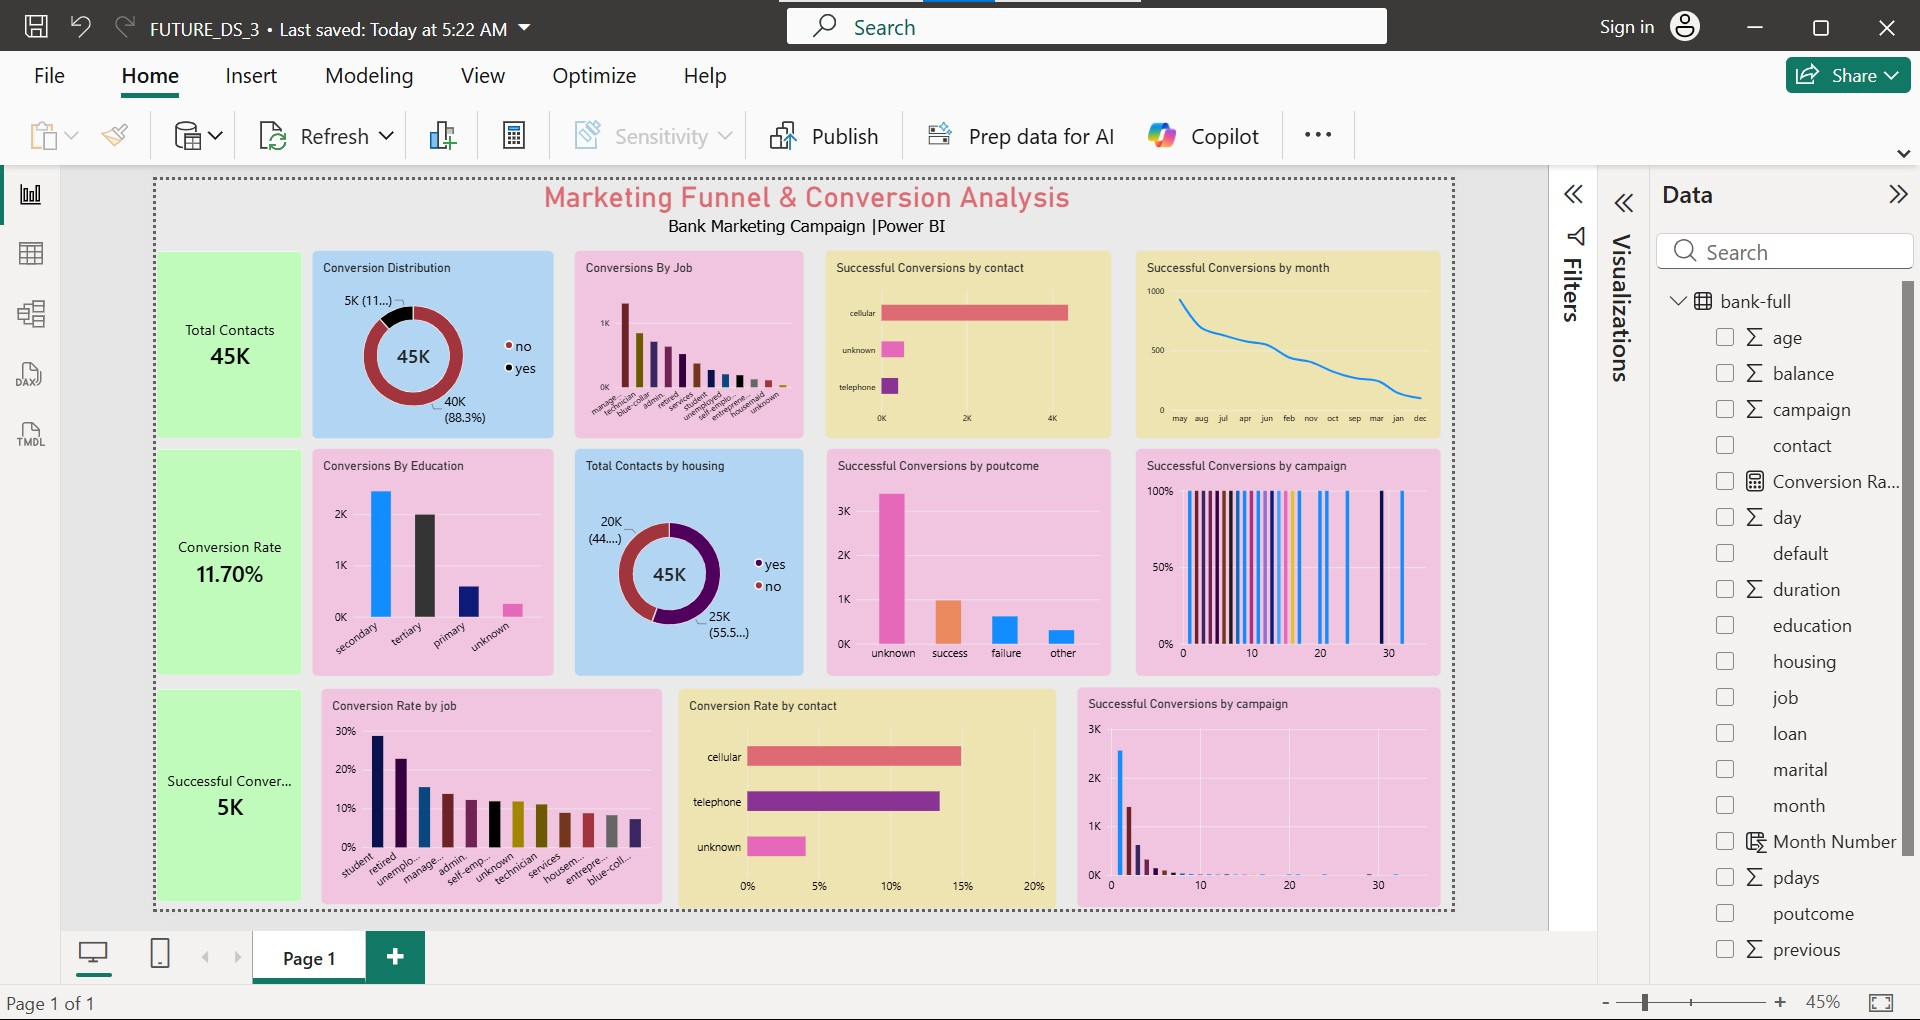

What the dashboard file says about the page in this screenshot:
{"tool":"powerbi","page":{"name":"Page 1","canvas":[1920,1080],"ordinal":0},"visuals":[{"type":"cardVisual","fields":{"Data":["bank-full.Total Contacts"]},"box":[0,105,217.1,279.2],"z":0},{"type":"cardVisual","fields":{"Data":["bank-full.Conversion Rate"]},"box":[0,398.4,217.1,336.4],"z":1000},{"type":"cardVisual","fields":{"Data":["bank-full.Successful Conversions"]},"box":[0,753.9,217.1,317.3],"z":2000},{"type":"donutChart","title":"Conversion Distribution","fields":{"Category":["bank-full.y"],"Y":["bank-full.Total Contacts"]},"box":[232.1,105.5,358.7,279],"z":3000},{"type":"clusteredColumnChart","title":" Conversions By Job","fields":{"Category":["bank-full.job"],"Y":["bank-full.Successful Conversions"]},"box":[618.9,105.5,339.9,279],"z":4000},{"type":"clusteredBarChart","fields":{"Category":["bank-full.contact"],"Y":["bank-full.Successful Conversions"]},"box":[991.7,105.5,424.4,279],"z":5000},{"type":"lineChart","fields":{"Category":["bank-full.month"],"Y":["bank-full.Successful Conversions"]},"box":[1451.2,105.5,452.5,279],"z":6000},{"type":"clusteredColumnChart","title":" Conversions By Education","fields":{"Category":["bank-full.education"],"Y":["bank-full.Successful Conversions"]},"box":[232.1,398.6,358.7,337.6],"z":7000},{"type":"donutChart","fields":{"Category":["bank-full.housing"],"Y":["bank-full.Total Contacts"]},"box":[618.9,398.6,339.9,337.6],"z":8000},{"type":"clusteredColumnChart","fields":{"Category":["bank-full.poutcome"],"Y":["bank-full.Successful Conversions"]},"box":[994.1,398.6,422,337.6],"z":9000},{"type":"hundredPercentStackedColumnChart","fields":{"Category":["bank-full.campaign"],"Y":["bank-full.Successful Conversions"]},"box":[1451.2,398.6,452.5,337.6],"z":10000},{"type":"clusteredColumnChart","fields":{"Category":["bank-full.job"],"Y":["bank-full.Conversion Rate"]},"box":[243.4,753.9,505.8,319.7],"z":11000},{"type":"clusteredBarChart","fields":{"Category":["bank-full.contact"],"Y":["bank-full.Conversion Rate"]},"box":[773,753.9,560.7,326.9],"z":12000},{"type":"lineStackedColumnComboChart","fields":{"Category":["bank-full.campaign"],"Y":["bank-full.Successful Conversions"]},"box":[1364.7,751.6,539.2,326.9],"z":14000},{"type":"textbox","box":[1709,0,211,246],"z":15000},{"type":"textbox","box":[1709,307,211,338],"z":16000},{"type":"textbox","title":"Marketing Funnel & Conversion Analysis ","box":[9.4,0,1910.8,84.4],"z":18000}]}

Visuals, with their boxes on the page's 1920x1080 design canvas (x1, y1, x2, y2). These are canvas units, not pixel positions in the 1920x1020 screenshot, which may show the page scaled, cropped or inside an application window:
cardVisual - bank-full.Total Contacts: Rect(0, 105, 217, 384)
cardVisual - bank-full.Conversion Rate: Rect(0, 398, 217, 735)
cardVisual - bank-full.Successful Conversions: Rect(0, 754, 217, 1071)
"Conversion Distribution" donutChart: Rect(232, 106, 591, 384)
" Conversions By Job" clusteredColumnChart: Rect(619, 106, 959, 384)
clusteredBarChart - bank-full.contact x bank-full.Successful Conversions: Rect(992, 106, 1416, 384)
lineChart - bank-full.month x bank-full.Successful Conversions: Rect(1451, 106, 1904, 384)
" Conversions By Education" clusteredColumnChart: Rect(232, 399, 591, 736)
donutChart - bank-full.housing x bank-full.Total Contacts: Rect(619, 399, 959, 736)
clusteredColumnChart - bank-full.poutcome x bank-full.Successful Conversions: Rect(994, 399, 1416, 736)
hundredPercentStackedColumnChart - bank-full.campaign x bank-full.Successful Conversions: Rect(1451, 399, 1904, 736)
clusteredColumnChart - bank-full.job x bank-full.Conversion Rate: Rect(243, 754, 749, 1074)
clusteredBarChart - bank-full.contact x bank-full.Conversion Rate: Rect(773, 754, 1334, 1081)
lineStackedColumnComboChart - bank-full.campaign x bank-full.Successful Conversions: Rect(1365, 752, 1904, 1078)
textbox: Rect(1709, 0, 1920, 246)
textbox: Rect(1709, 307, 1920, 645)
"Marketing Funnel & Conversion Analysis " textbox: Rect(9, 0, 1920, 84)
